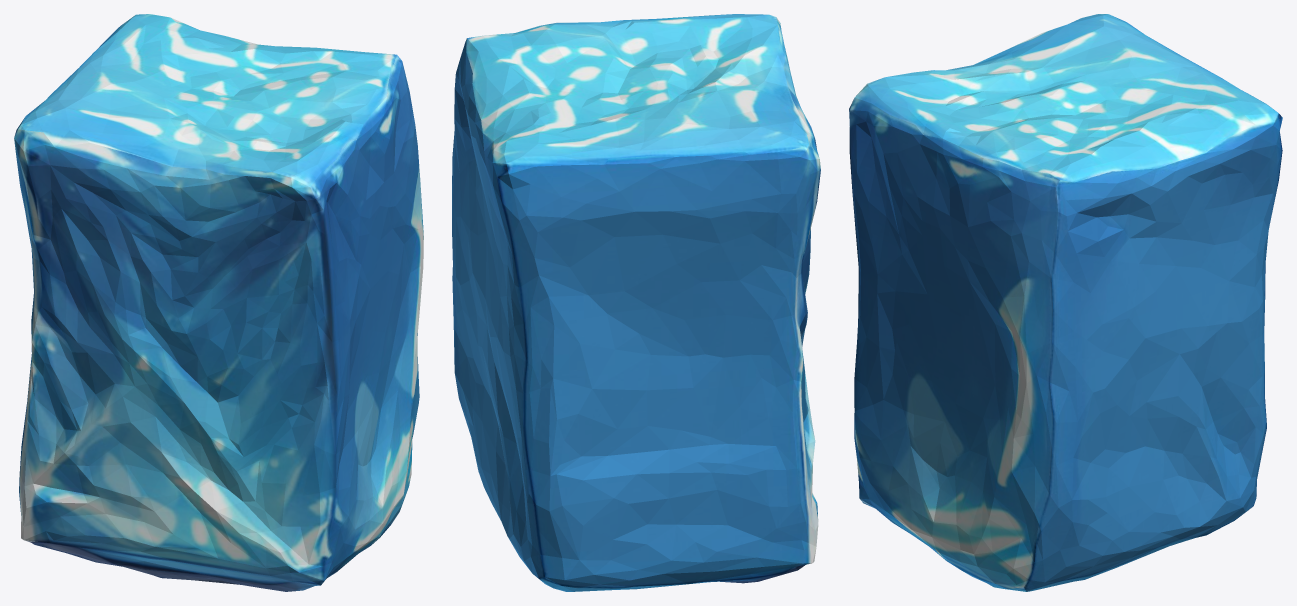
Rendered from ice_pack.glb.
3 views of the same model, side by side, from view 1: azimuth 30°, elevation 25°; view 2: azimuth 150°, elevation 25°; view 3: azimuth 270°, elevation 25° (orthographic). The views are drawn at different scales.
Visible parts, largest first — view 1: tmp2bprhrga.ply; view 2: tmp2bprhrga.ply; view 3: tmp2bprhrga.ply.
Part boxes in pixels (x1,y1,x2,y2): tmp2bprhrga.ply: (14, 14, 423, 591); tmp2bprhrga.ply: (452, 14, 820, 591); tmp2bprhrga.ply: (849, 14, 1282, 591).
Size of the model in its own units: 1.7 by 2 by 1.72.
Materials: 1 (1 with a texture image).
